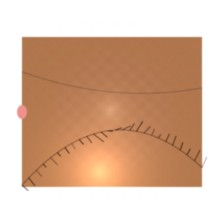corneal_ulcer: (78, 91, 142, 142)
